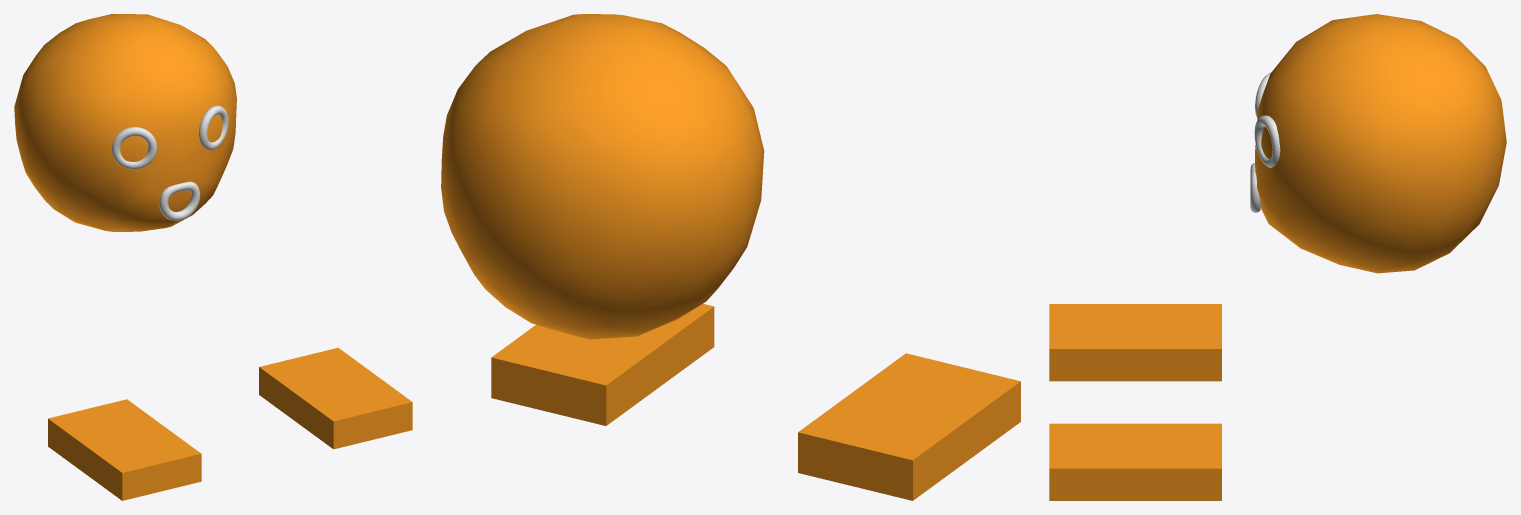
Rendered from head.fbx.
The picture shows the model from 3 angles, left to right: view 1: azimuth 30°, elevation 25°; view 2: azimuth 150°, elevation 25°; view 3: azimuth 270°, elevation 25°; orthographic projection. The views are drawn at different scales.
Visible parts, largest first — view 1: Icosphere, Cube, Cube.001, Torus, Torus.002, Torus.001; view 2: Icosphere, Cube, Cube.001; view 3: Icosphere, Cube, Cube.001, Torus.001.
Boxes of the visible parts, box(x1,y1,x2,y2) form: Icosphere: box(14, 14, 236, 231); Cube: box(48, 399, 201, 500); Cube.001: box(259, 347, 412, 449); Torus: box(112, 127, 157, 169); Torus.002: box(159, 181, 200, 220); Torus.001: box(199, 105, 228, 150); Icosphere: box(441, 14, 764, 339); Cube: box(798, 353, 1020, 500); Cube.001: box(491, 304, 714, 425); Icosphere: box(1255, 14, 1506, 273); Cube: box(1049, 304, 1221, 381); Cube.001: box(1049, 423, 1221, 500); Torus.001: box(1254, 115, 1280, 167).
Size of the model in its own units: 45.06 by 50.27 by 52.96.
